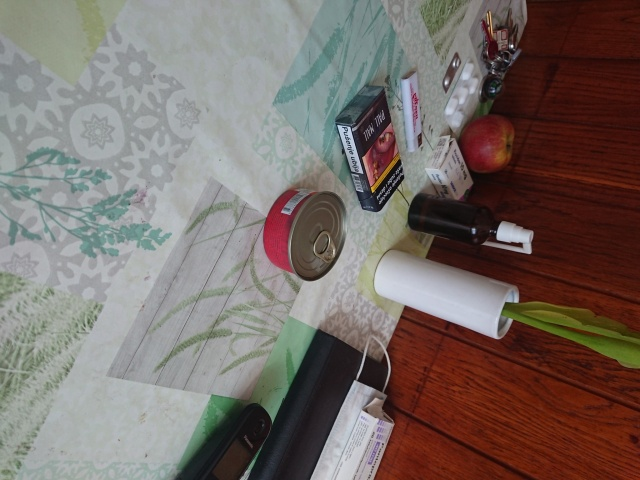Gavrilovic Pork Liver Pate 100g: (260, 185, 349, 284)
